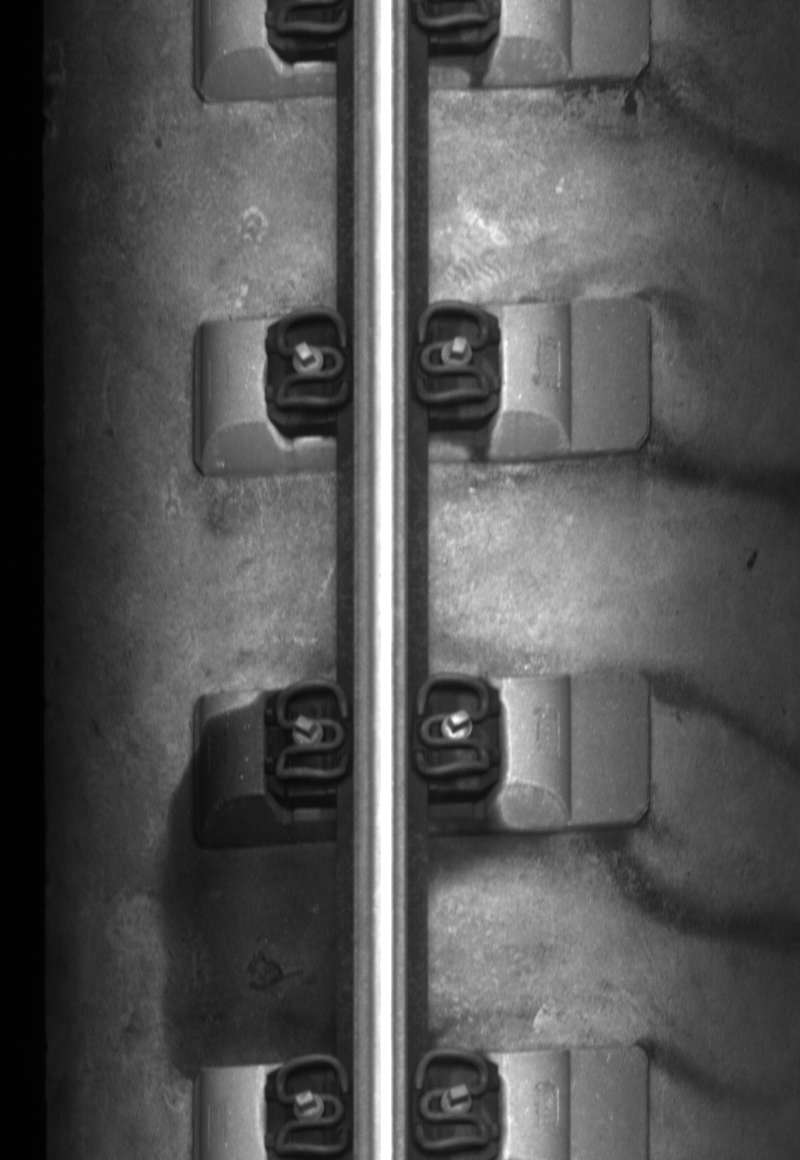l_faster: (268, 670, 351, 792), (269, 1046, 353, 1159), (268, 303, 352, 413)
r_faster: (409, 668, 496, 790), (410, 296, 496, 412), (408, 1044, 496, 1155)
